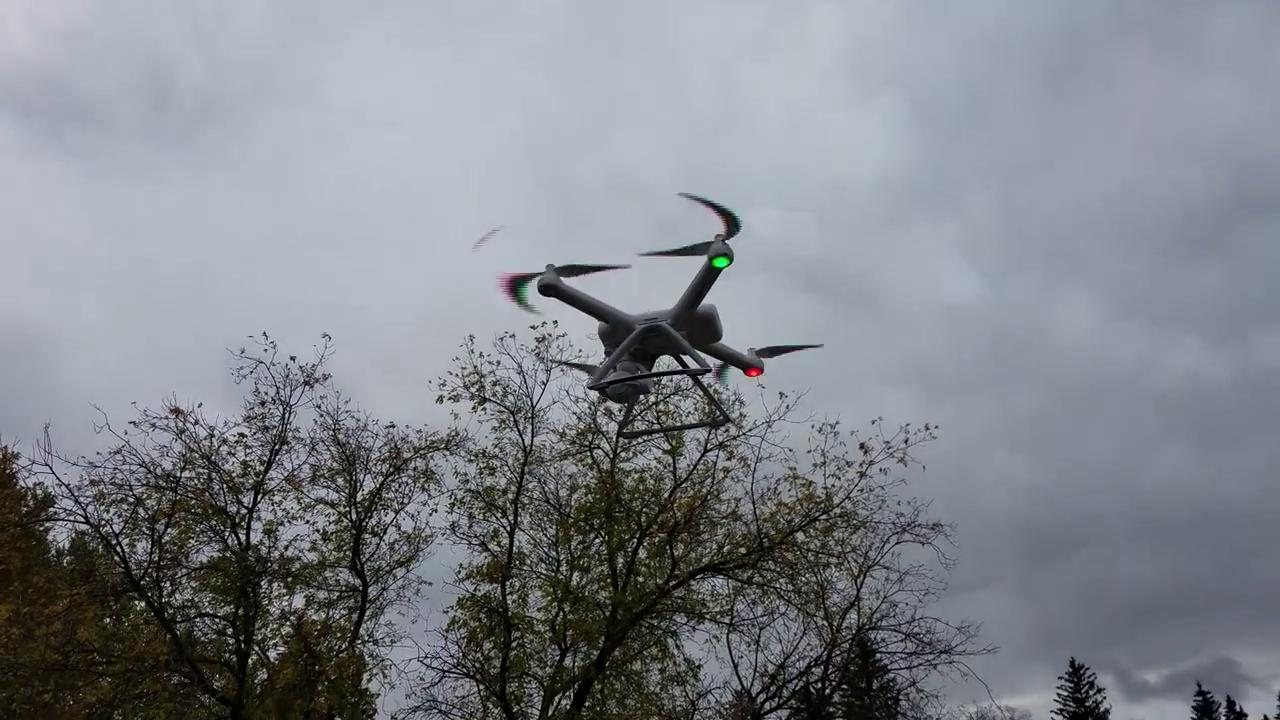drone: (437, 188, 840, 446)
